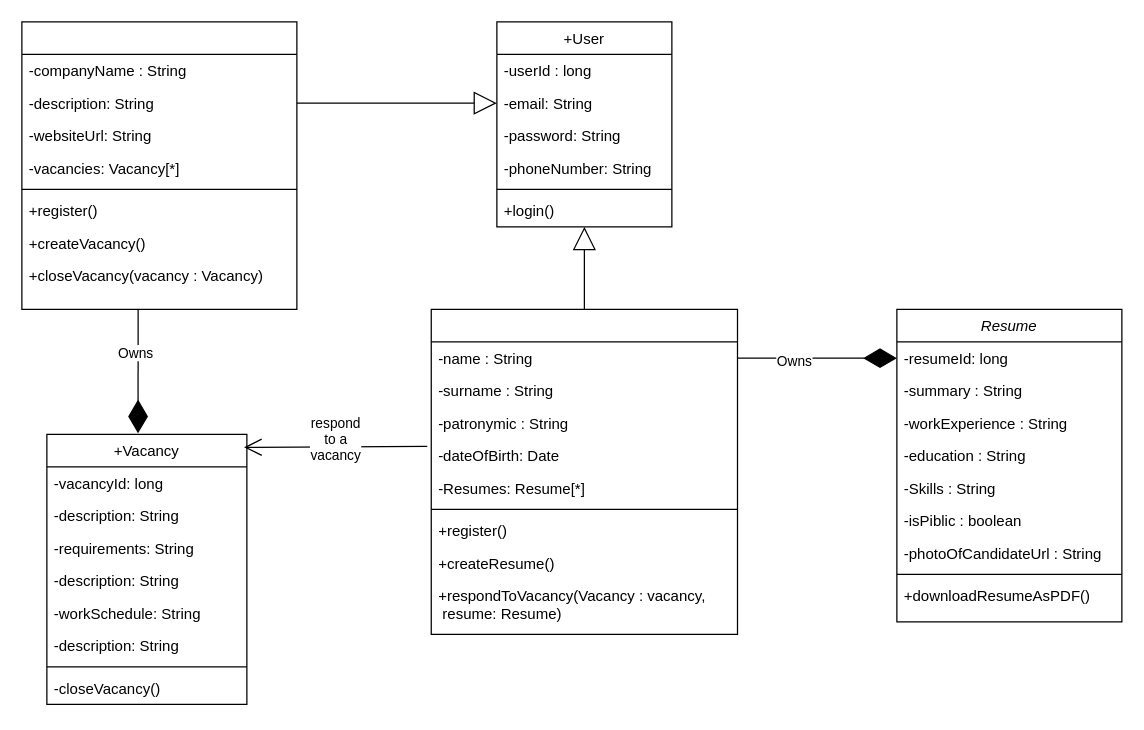
Image size: 1144x730. Some labels were removed from this diagram. The shapes that lost their labels are listed below. From the top down, each one's box as (x1, y1, x2, y2) in pixels, then its label:
(21, 21, 297, 309): +Employer
(430, 308, 738, 634): +JobSeeker
